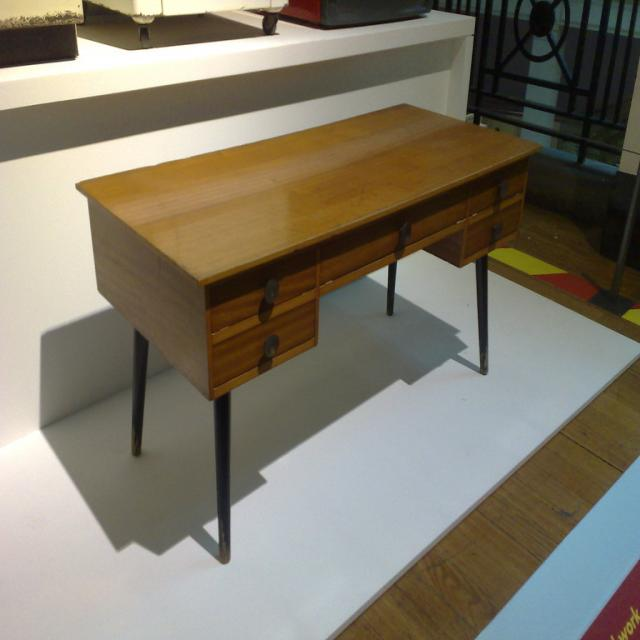desk: (78, 103, 540, 558)
